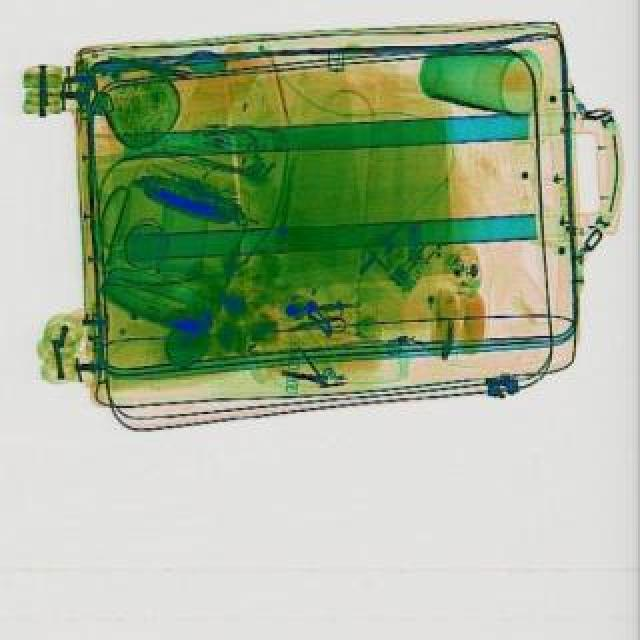pliers: (282, 304, 350, 348)
